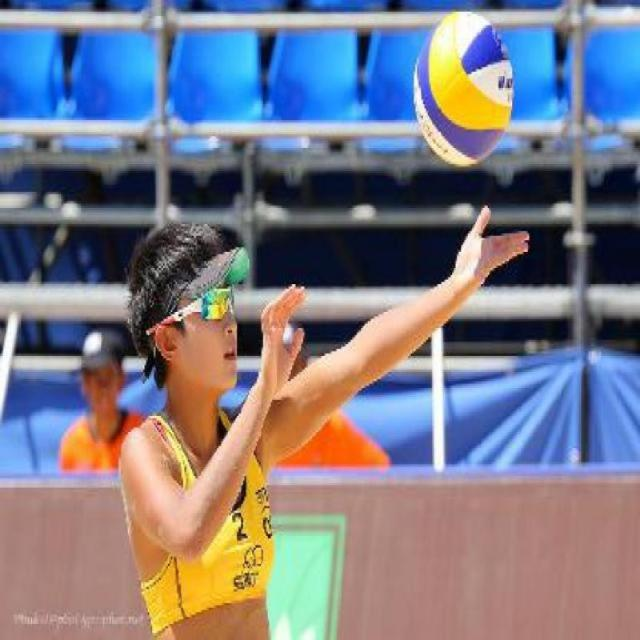volleyball: (411, 10, 514, 166)
